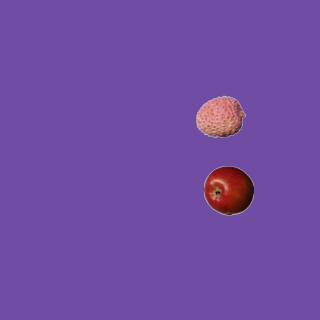Apple Braeburn: (203, 165, 253, 215)
Lychee: (195, 91, 245, 141)
